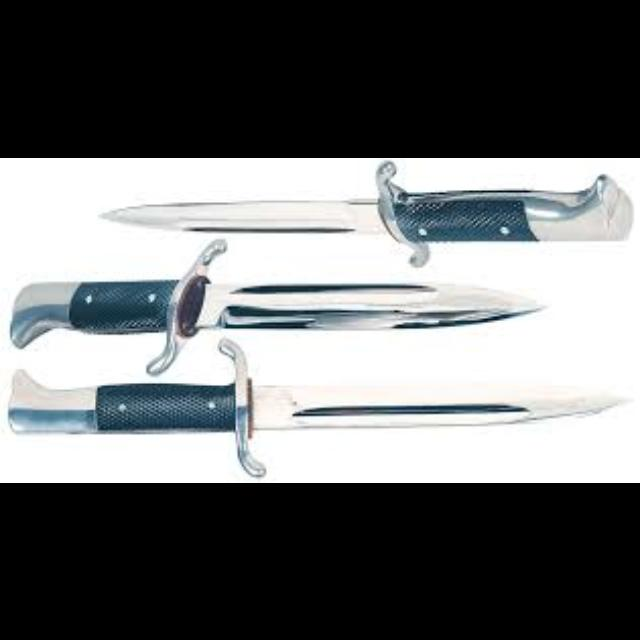Knife: (6, 336, 634, 476), (8, 236, 546, 372), (98, 158, 634, 264)
